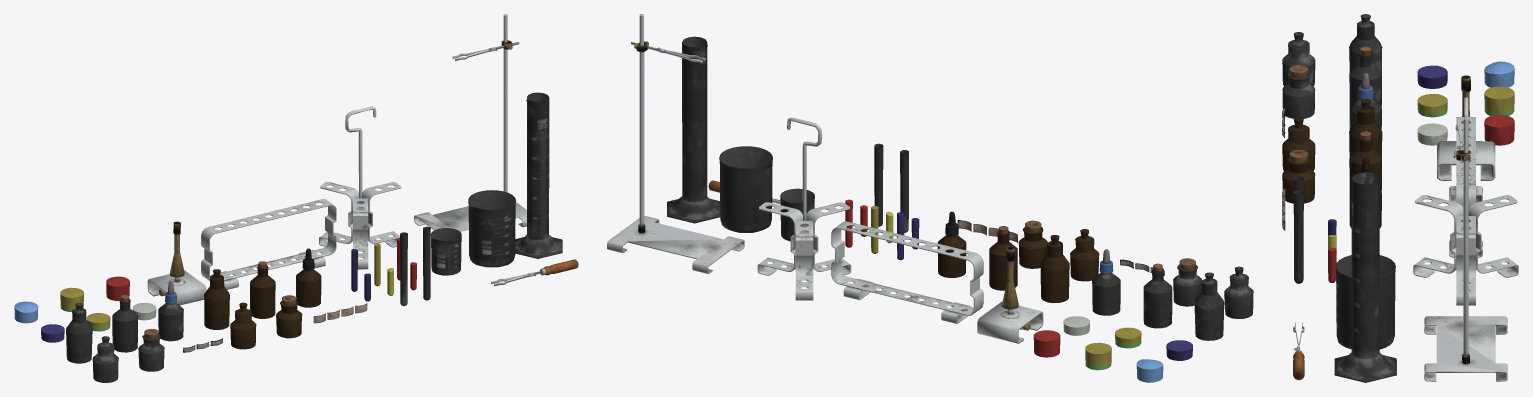
File: ph_chemistry_set.glb
3 views of the same model, side by side, from view 1: azimuth 30°, elevation 25°; view 2: azimuth 150°, elevation 25°; view 3: azimuth 270°, elevation 25° (orthographic). The views are drawn at different scales.
Parts seen in each view (by area): view 1: chemistry_set_beaker_large; view 2: chemistry_set_beaker_large; view 3: chemistry_set_beaker_large.
Boxes of the visible parts, x1,y1,x2,y2 form: chemistry_set_beaker_large: [14, 14, 578, 382]; chemistry_set_beaker_large: [607, 14, 1253, 382]; chemistry_set_beaker_large: [1282, 14, 1518, 382].
Size of the model in its own units: 1.08 by 0.4285 by 0.3539.
2 materials, 2 textured.
